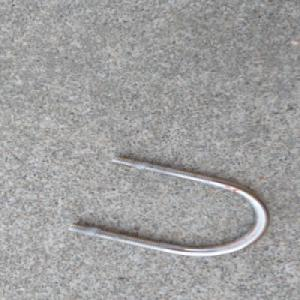ClampPart: (62, 152, 270, 257)
